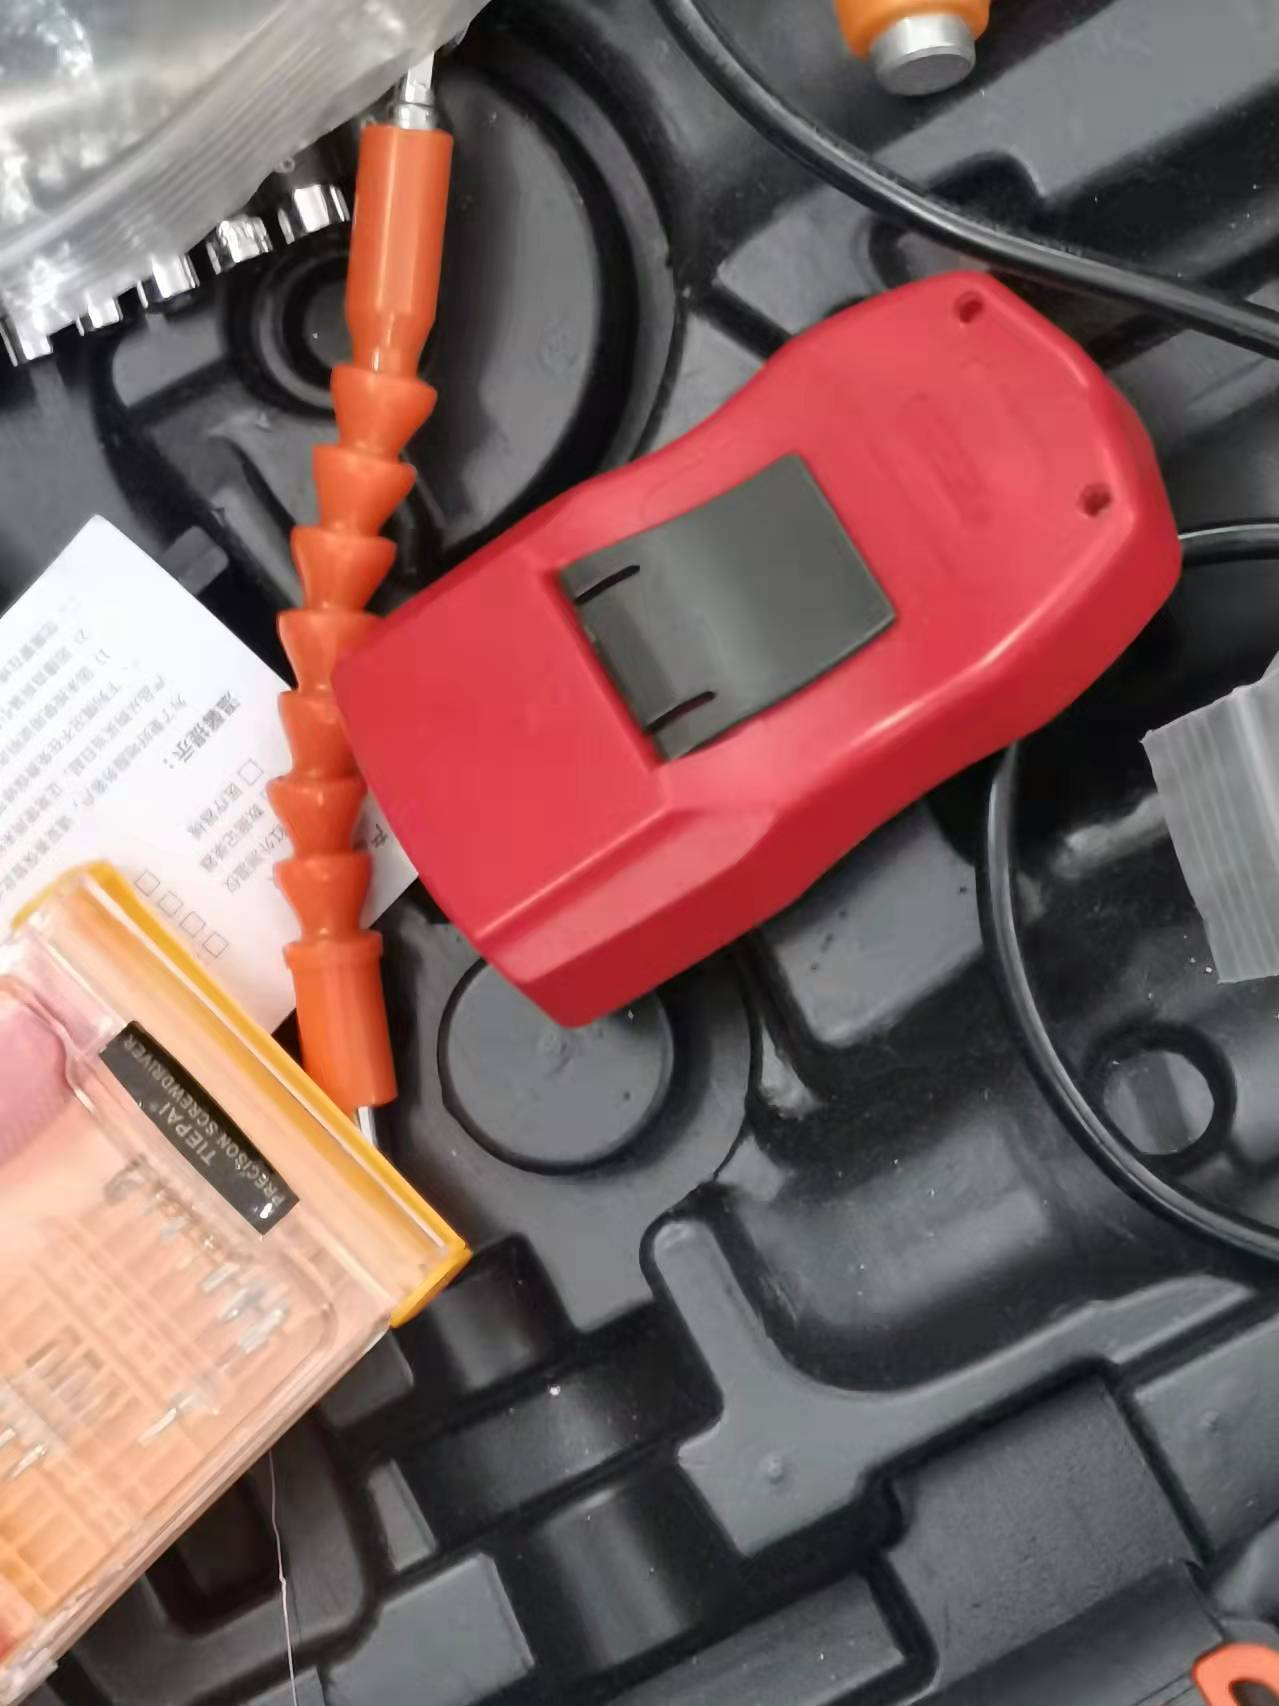Multimeter: (321, 267, 1198, 1038)
